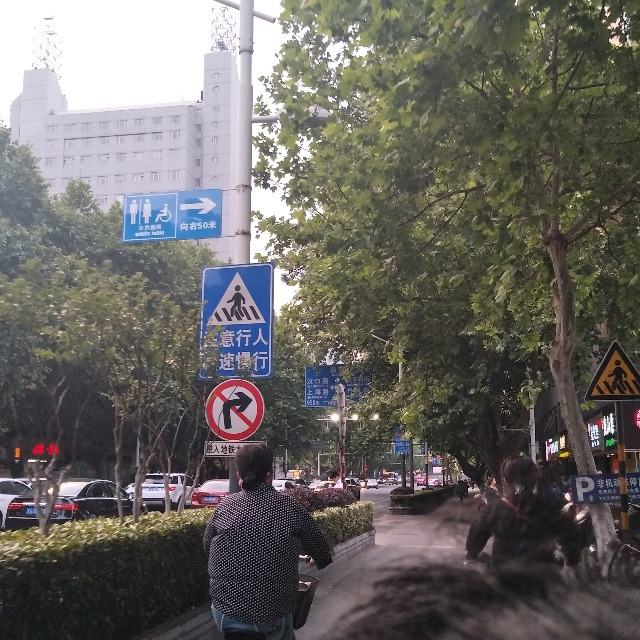crosswalk: (205, 271, 263, 327)
